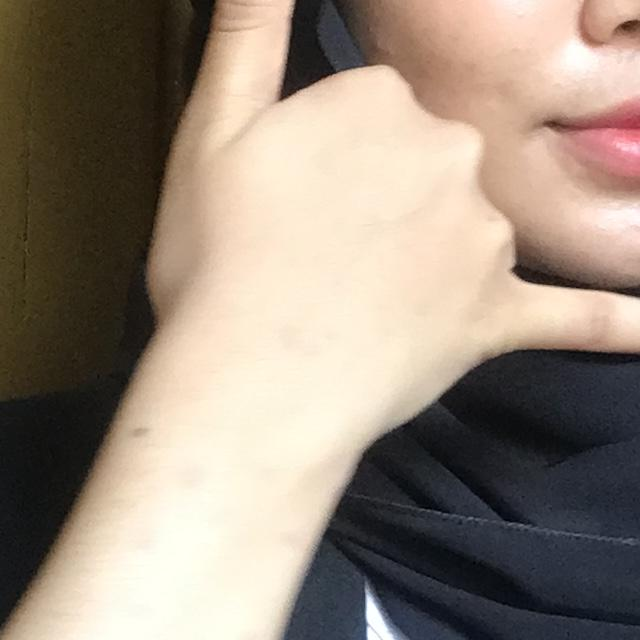telpon: (60, 0, 640, 556)
